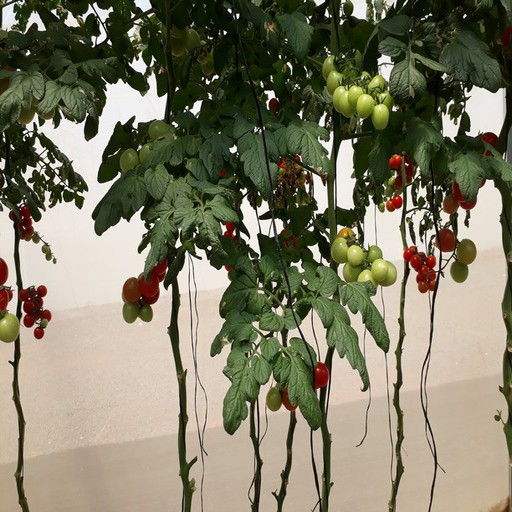green tomato bunch: (324, 55, 393, 128), (156, 14, 223, 76), (329, 235, 395, 295), (120, 119, 180, 174)
mixed tomato bunch: (267, 360, 329, 416), (120, 257, 170, 322)
red tomato bunch: (442, 131, 497, 211), (402, 245, 441, 294), (388, 154, 418, 214), (19, 285, 52, 338), (221, 220, 247, 274), (8, 204, 33, 241)
